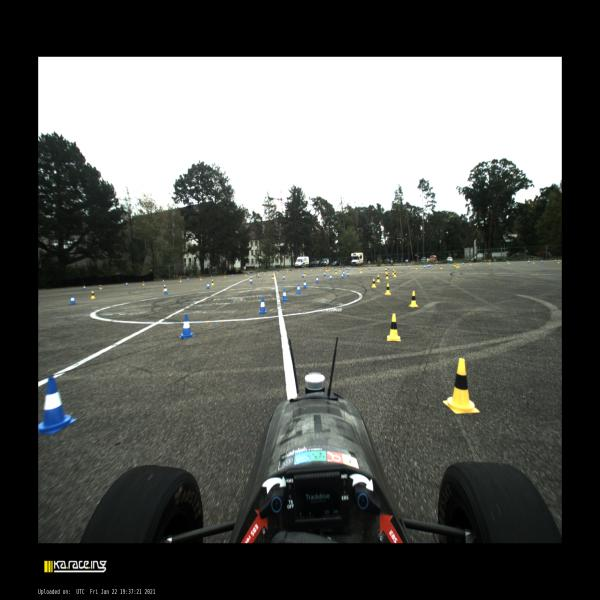blue_cone: (39, 378, 77, 434), (180, 315, 195, 339), (258, 297, 267, 314), (282, 288, 288, 301), (69, 295, 76, 304), (296, 284, 301, 294), (303, 280, 307, 288), (206, 282, 210, 289), (164, 287, 168, 294), (316, 276, 319, 283), (341, 272, 344, 279), (329, 274, 332, 280), (347, 271, 350, 277), (323, 271, 326, 277), (250, 278, 253, 284), (83, 284, 86, 290), (282, 275, 285, 280), (302, 272, 304, 278), (125, 282, 128, 286), (343, 270, 345, 276), (368, 266, 371, 270), (210, 275, 212, 279), (541, 259, 543, 263), (162, 279, 164, 282), (187, 277, 189, 280), (424, 265, 426, 268), (427, 264, 429, 267), (528, 260, 530, 263)
yellow_cone: (443, 358, 480, 414), (386, 314, 401, 341), (408, 291, 419, 307), (385, 283, 391, 295), (90, 290, 96, 298), (372, 278, 376, 288), (376, 274, 381, 282), (385, 272, 389, 280), (393, 271, 397, 277), (211, 280, 214, 286), (99, 284, 102, 290), (142, 280, 145, 286), (163, 284, 165, 292), (392, 269, 395, 274), (557, 259, 560, 264), (179, 278, 182, 282), (360, 268, 362, 273), (272, 274, 274, 279), (304, 271, 306, 276), (335, 269, 337, 274), (385, 268, 387, 273), (416, 266, 418, 270), (200, 276, 202, 280), (326, 268, 328, 272), (328, 267, 330, 271), (338, 268, 340, 272), (440, 265, 442, 269), (532, 260, 534, 264), (224, 275, 226, 278), (384, 266, 386, 269), (245, 273, 246, 276)
